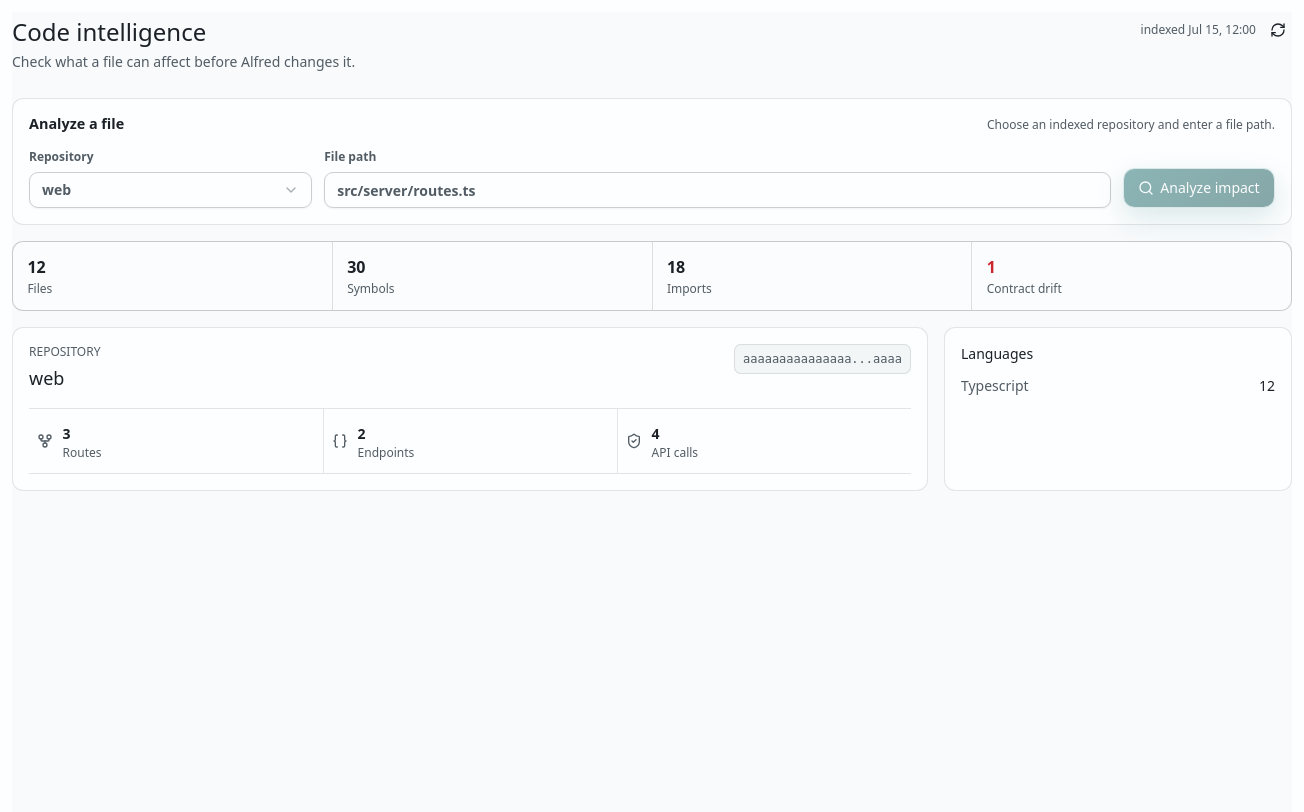
it: CodeIntelligenceView › analyzes a path and renders bounded relationships
Type "src/api.ts" into the field labelled "File path" at (718, 190), box [324, 172, 1111, 208]
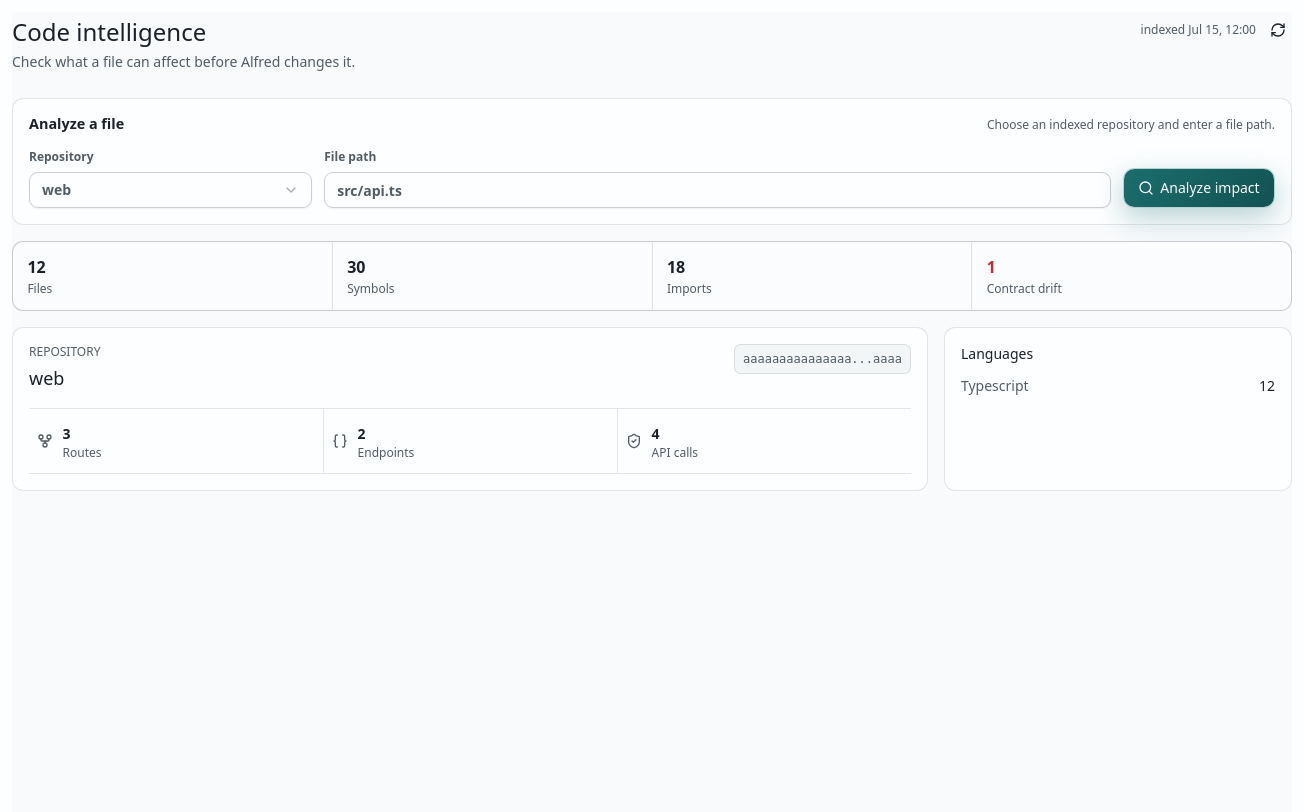
Click the button "Analyze impact" at (1199, 188), box [1123, 168, 1275, 208]
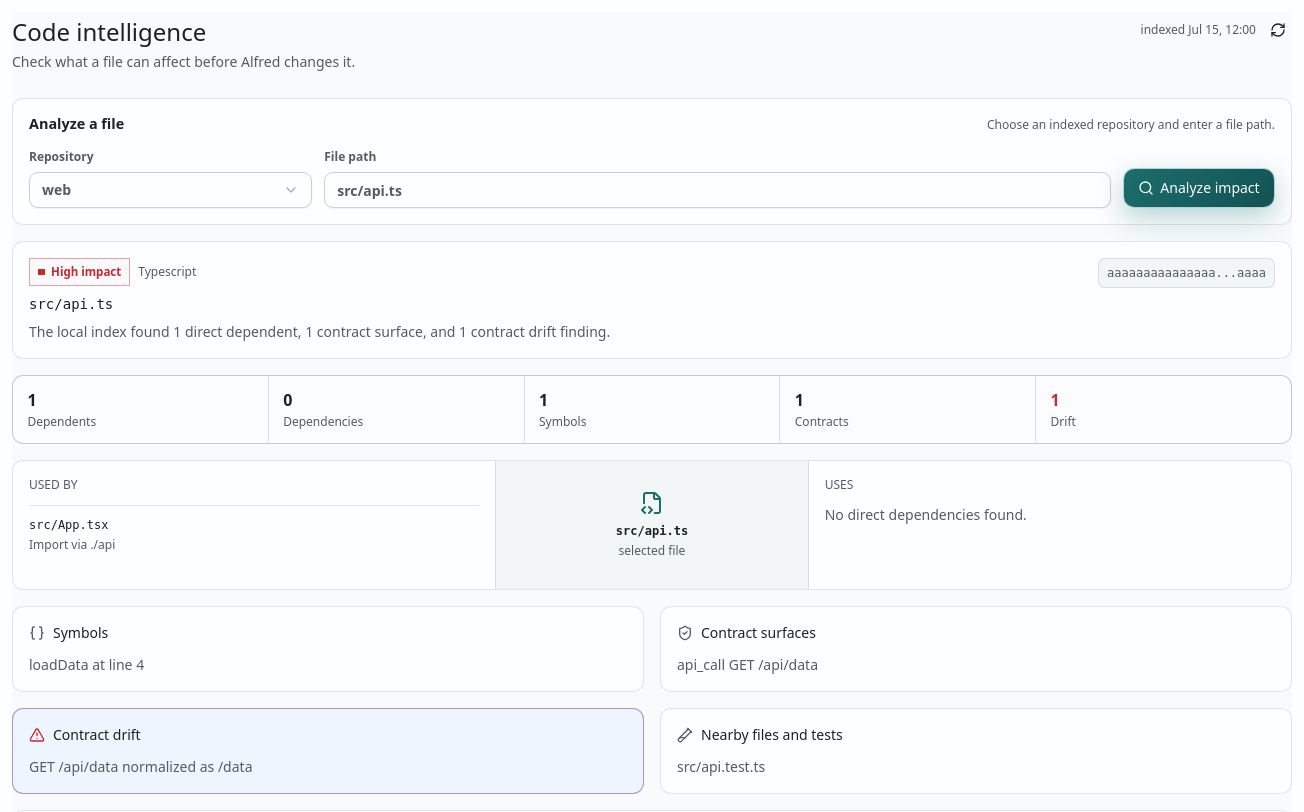
Expected: the text "src/App.tsx" is shown, [29, 518, 108, 532]
Expected: the list item "src/api.test.ts" is shown, [677, 757, 765, 776]
Expected: the list item "loadData at line 4" is shown, [29, 655, 144, 674]
